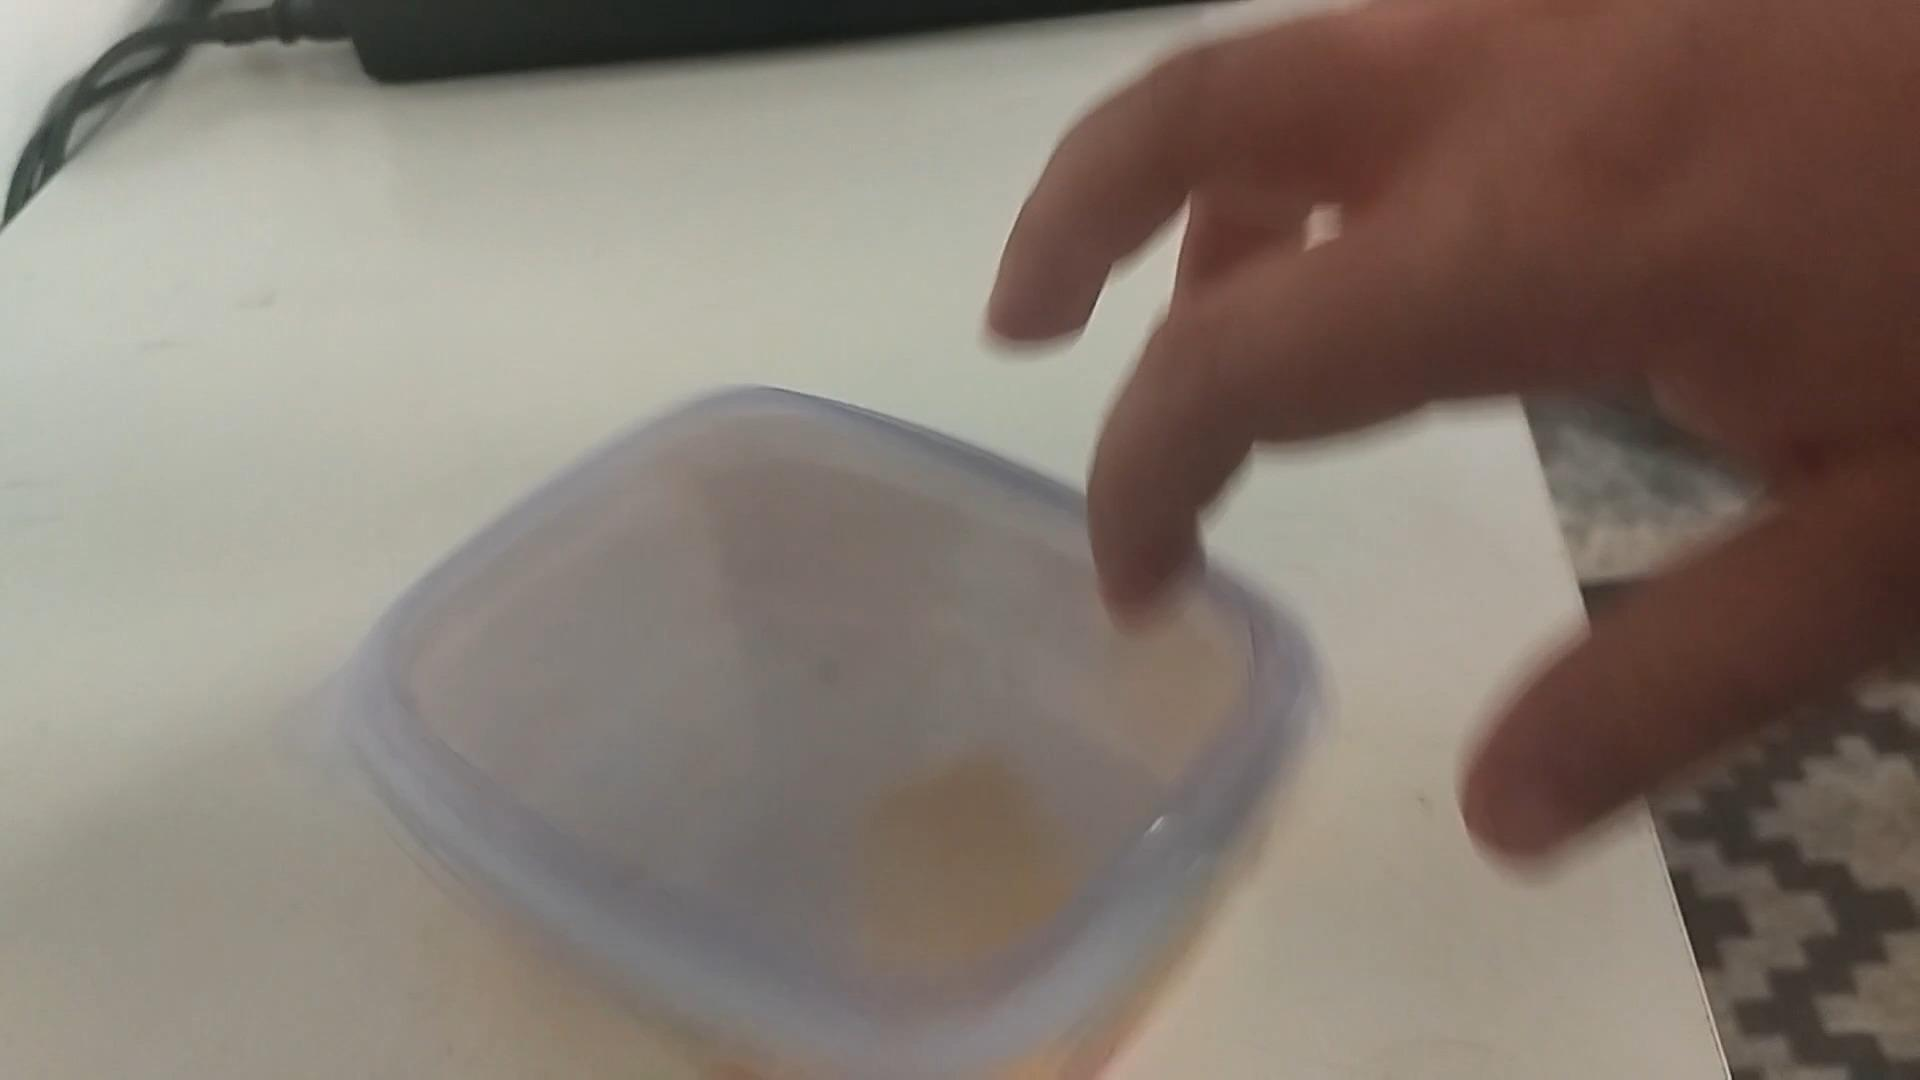butter: (345, 362, 1325, 1080)
